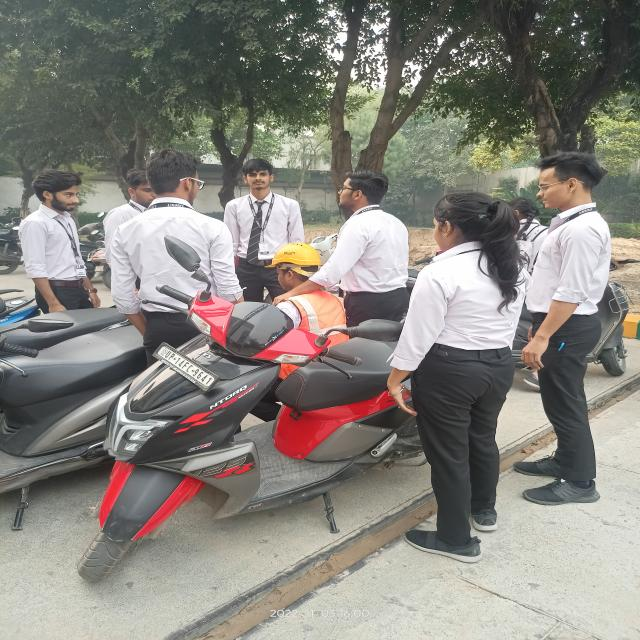unsafe: (394, 190, 522, 558), (504, 150, 622, 504), (127, 155, 249, 320), (328, 168, 417, 326), (18, 163, 106, 307), (223, 155, 303, 301), (242, 54, 245, 55)
